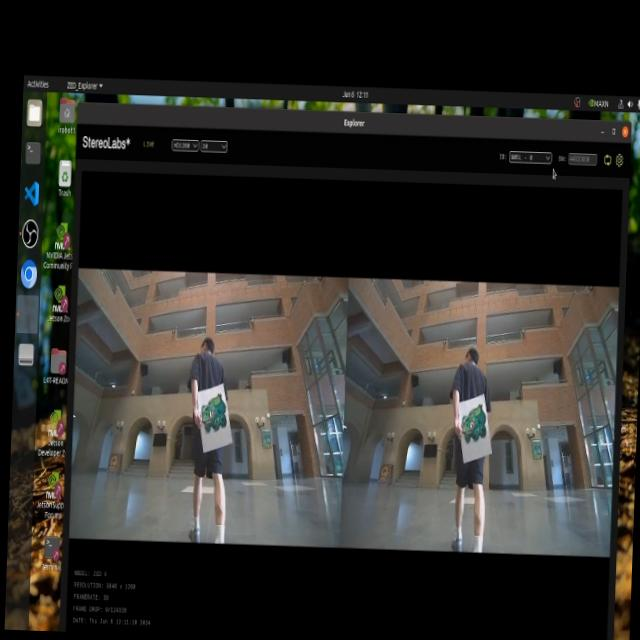green: (458, 407, 489, 448), (205, 388, 228, 434)
